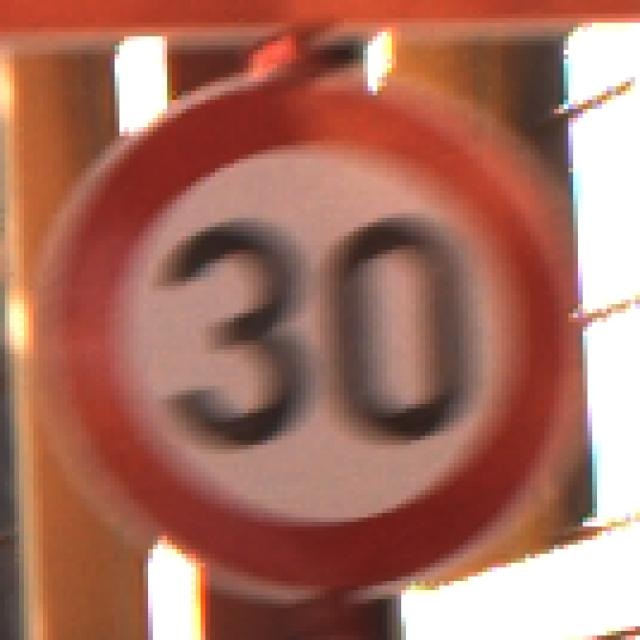Speed Limit -30-: (50, 59, 580, 576)
